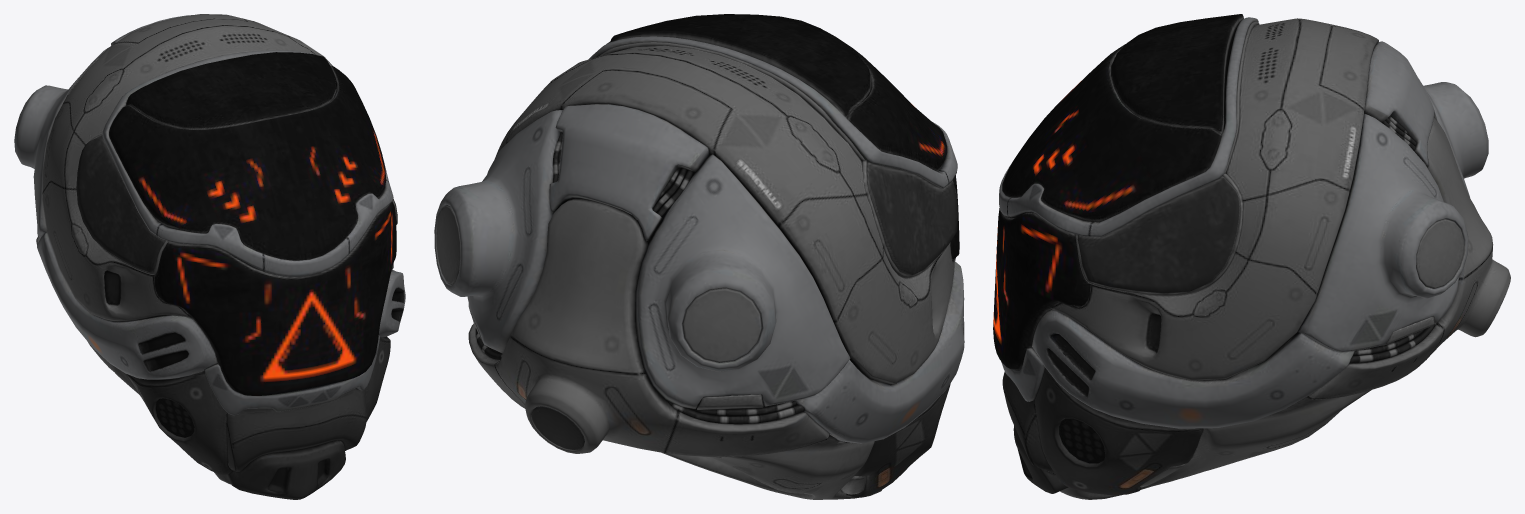
File: casque-de-combat.glb
3 views of the same model, side by side, from view 1: azimuth 30°, elevation 25°; view 2: azimuth 150°, elevation 25°; view 3: azimuth 270°, elevation 25° (orthographic). The views are drawn at different scales.
Parts seen in each view (by area): view 1: Plane.001, Plane.002, Plane.008, Plane, Plane.007, Plane.015, Plane.004, Plane.010, Plane.009, Plane.005, Plane.011, Plane.003 (+1 smaller); view 2: Plane.011, Plane.008, Plane.012, Plane.013, Plane, Plane.007, Plane.010, Plane.006, Plane.001, Plane.015, Plane.009, NurbsPath.002 (+5 smaller); view 3: Plane.008, Plane.011, Plane.001, Plane.007, Plane.010, Plane, Plane.012, Plane.009, Plane.002, Plane.006, Plane.015, Plane.013 (+7 smaller).
Part boxes in pixels (left/top/right/bottom): Plane.001: left=109, top=65, right=386, bottom=260; Plane.002: left=154, top=202, right=396, bottom=395; Plane.008: left=42, top=14, right=393, bottom=321; Plane: left=126, top=52, right=336, bottom=129; Plane.007: left=37, top=232, right=405, bottom=379; Plane.015: left=102, top=50, right=393, bottom=276; Plane.004: left=226, top=388, right=366, bottom=471; Plane.010: left=76, top=136, right=397, bottom=272; Plane.009: left=124, top=336, right=390, bottom=474; Plane.005: left=227, top=440, right=345, bottom=499; Plane.011: left=14, top=48, right=107, bottom=237; Plane.003: left=204, top=335, right=379, bottom=415; Plane.011: left=434, top=110, right=850, bottom=409; Plane.008: left=495, top=45, right=954, bottom=384; Plane.012: left=468, top=198, right=829, bottom=456; Plane.013: left=549, top=104, right=709, bottom=242; Plane: left=610, top=14, right=870, bottom=118; Plane.007: left=794, top=261, right=964, bottom=443; Plane.010: left=867, top=161, right=957, bottom=275; Plane.006: left=662, top=435, right=881, bottom=499; Plane.001: left=607, top=31, right=947, bottom=171; Plane.015: left=588, top=36, right=957, bottom=188; Plane.009: left=846, top=384, right=950, bottom=497; NurbsPath.002: left=475, top=328, right=804, bottom=424; Plane.008: left=1049, top=18, right=1378, bottom=380; Plane.011: left=1297, top=79, right=1488, bottom=351; Plane.001: left=1002, top=44, right=1221, bottom=222; Plane.007: left=1032, top=309, right=1354, bottom=428; Plane.010: left=1077, top=117, right=1240, bottom=293; Plane: left=1111, top=14, right=1243, bottom=133; Plane.012: left=1307, top=118, right=1510, bottom=399; Plane.009: left=1034, top=368, right=1203, bottom=495; Plane.002: left=993, top=208, right=1090, bottom=369; Plane.006: left=1060, top=390, right=1371, bottom=499; Plane.015: left=999, top=17, right=1258, bottom=236; Plane.013: left=1364, top=41, right=1437, bottom=167.
Bounding box in the file's own units: 1.5 × 1.88 × 1.94.
1 material, 1 textured.
